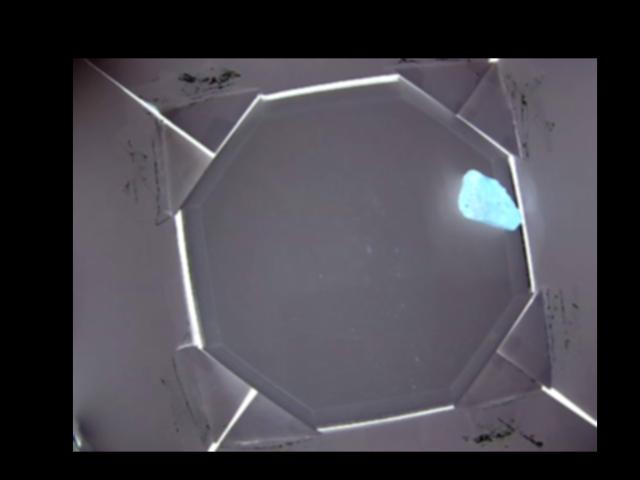Brisk: (457, 168, 525, 231)
